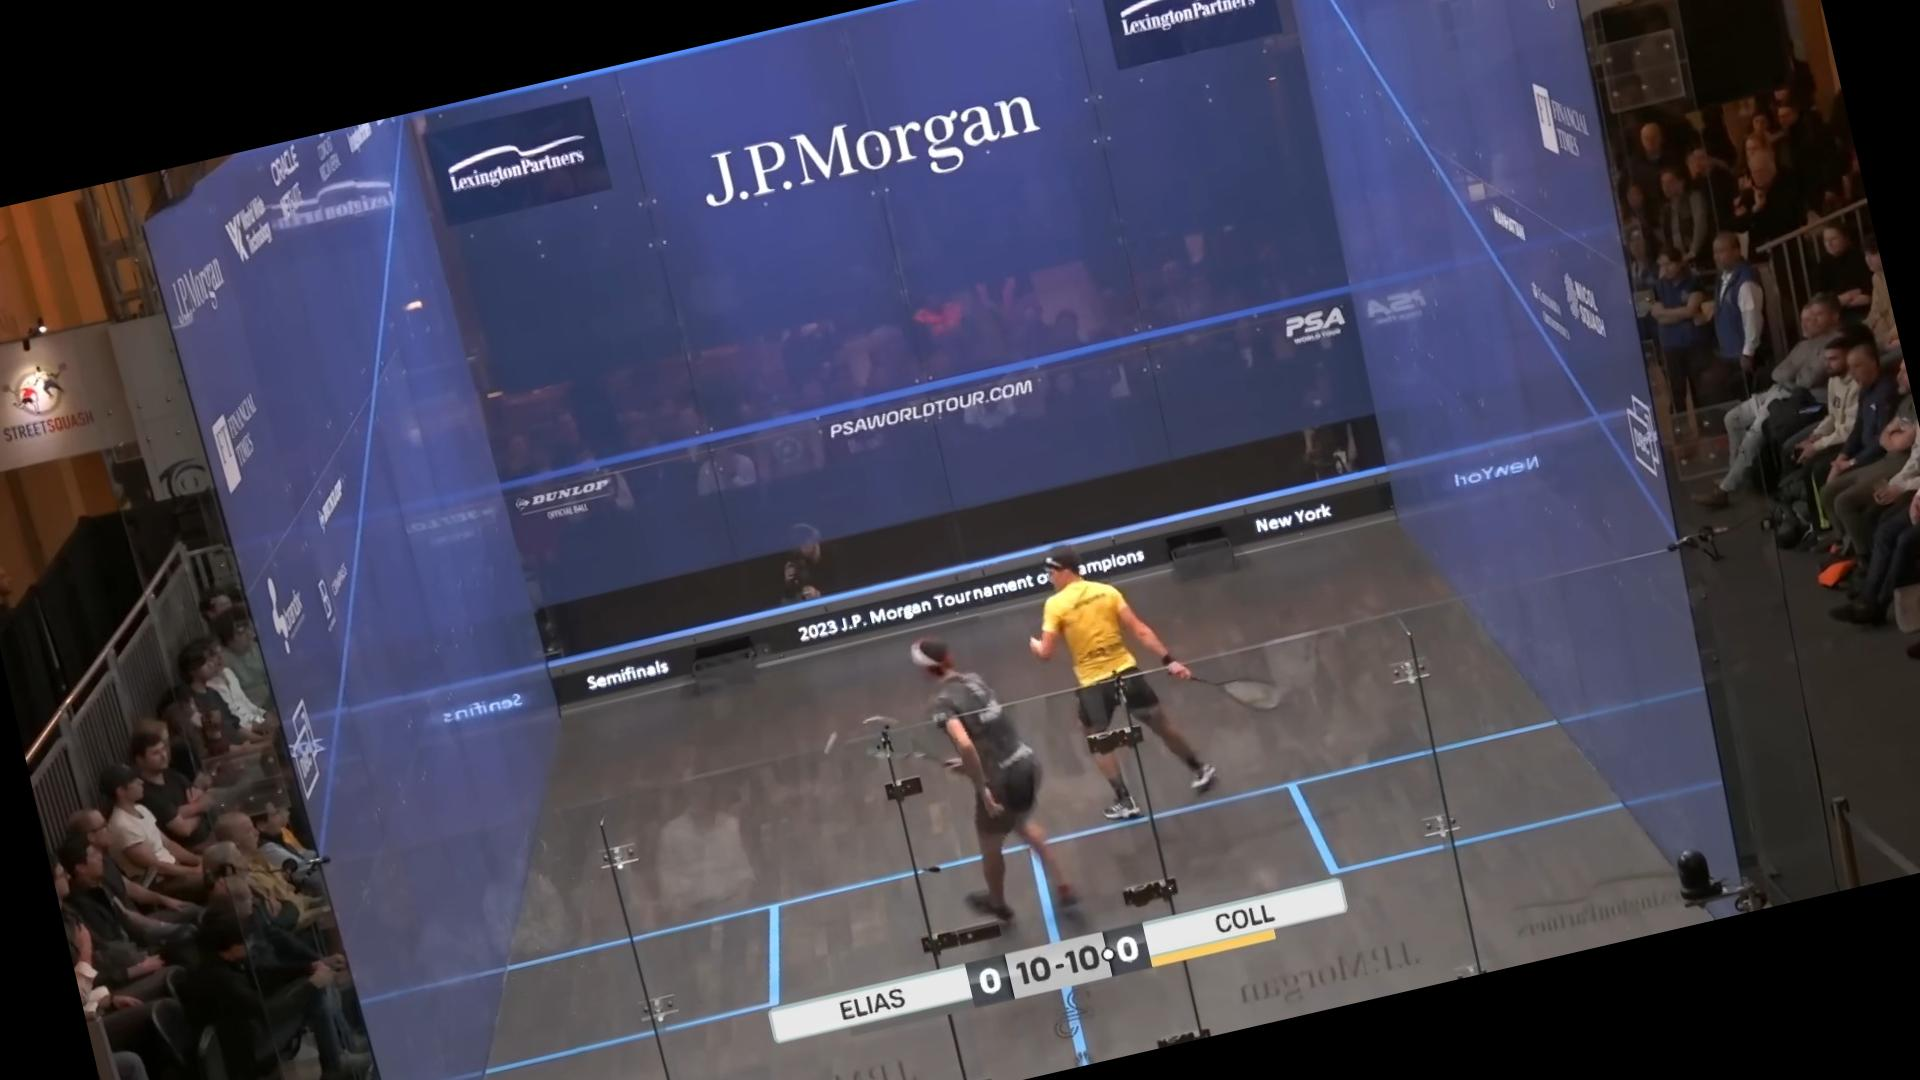Racket: (844, 692, 947, 775), (1189, 649, 1295, 729)
